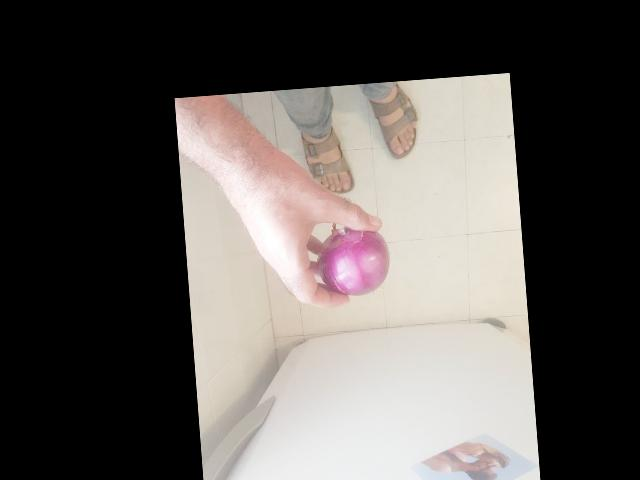onion: (308, 222, 394, 300)
